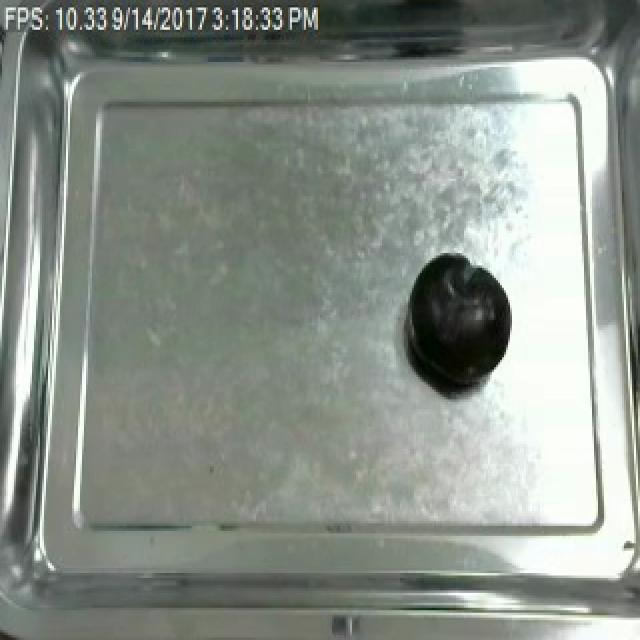Fruit: (402, 250, 514, 394)
